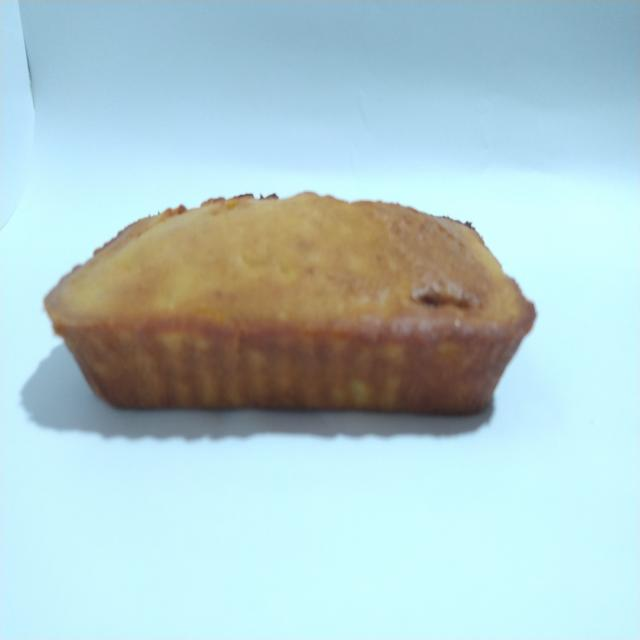Food: (37, 164, 550, 444)
